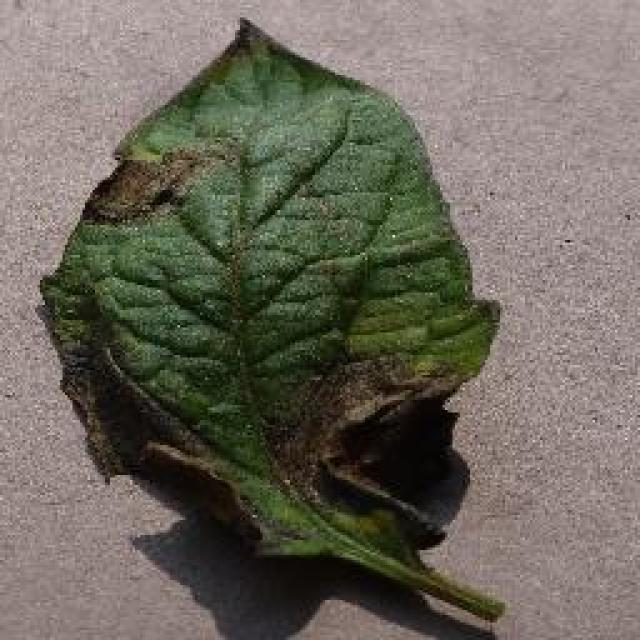Tomato Late Blight: (76, 103, 472, 535)
